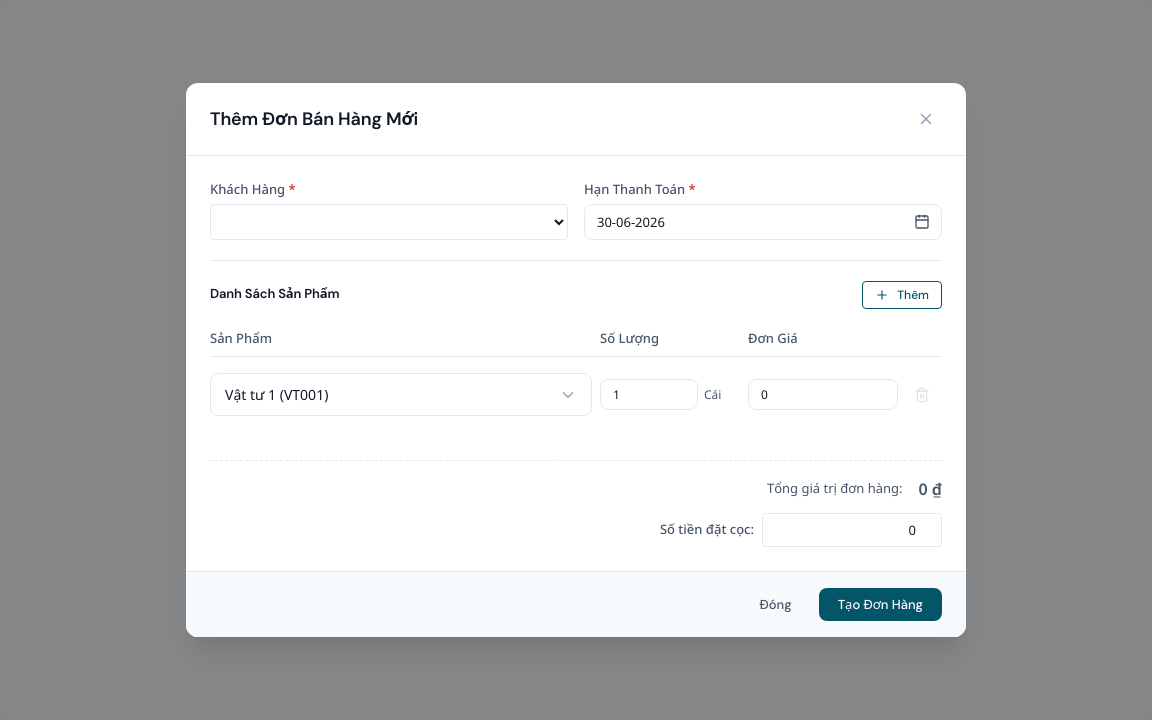
Scenario: SalesOrderFormModal › adds and removes item lines
The image size is (1152, 720).
Expected: the number of buttons named "Xóa sản phẩm" is 1, [906, 378, 938, 410]
Expected: the button named "Xóa sản phẩm" is disabled, [906, 378, 938, 410]
Add item
Step 1. Click the button "Thêm" → point(902, 294), box [862, 280, 942, 308]
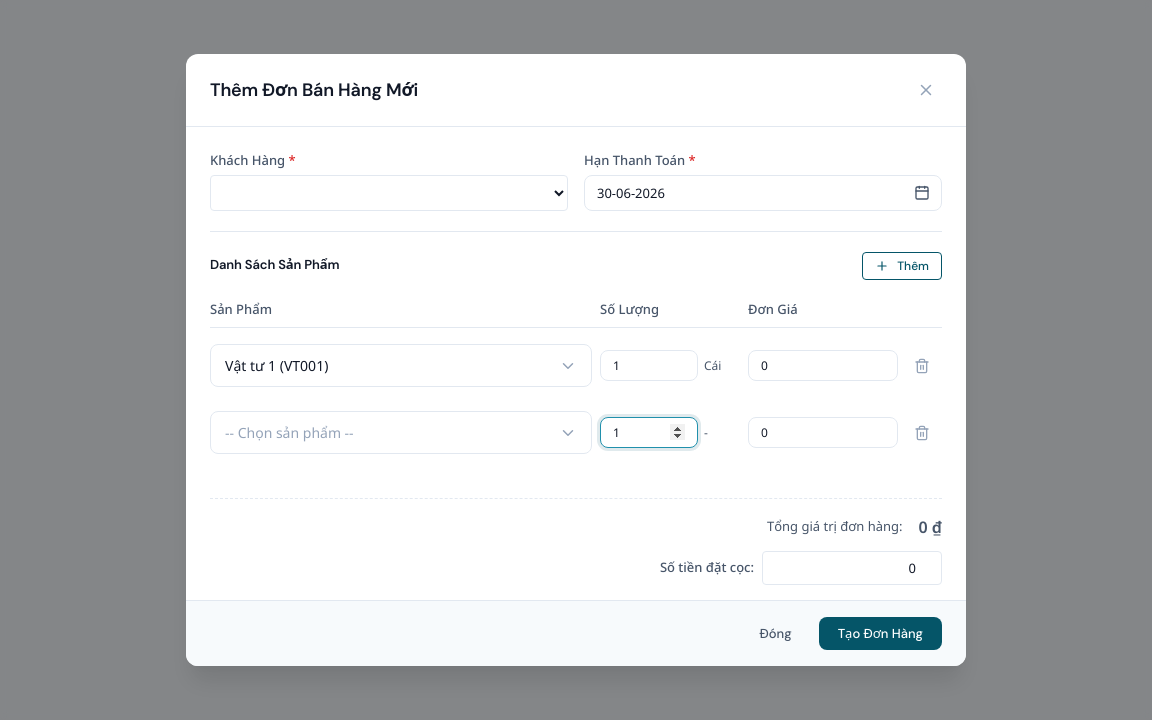
Expected: the number of buttons named "Xóa sản phẩm" is 2
Expected: the button named "Xóa sản phẩm" in the row of "Cái" is enabled, [906, 350, 938, 382]
Remove item
Step 2. Click the button named "Xóa sản phẩm" in the row of "-- Chọn sản phẩm --" → point(922, 432), box [906, 416, 938, 448]
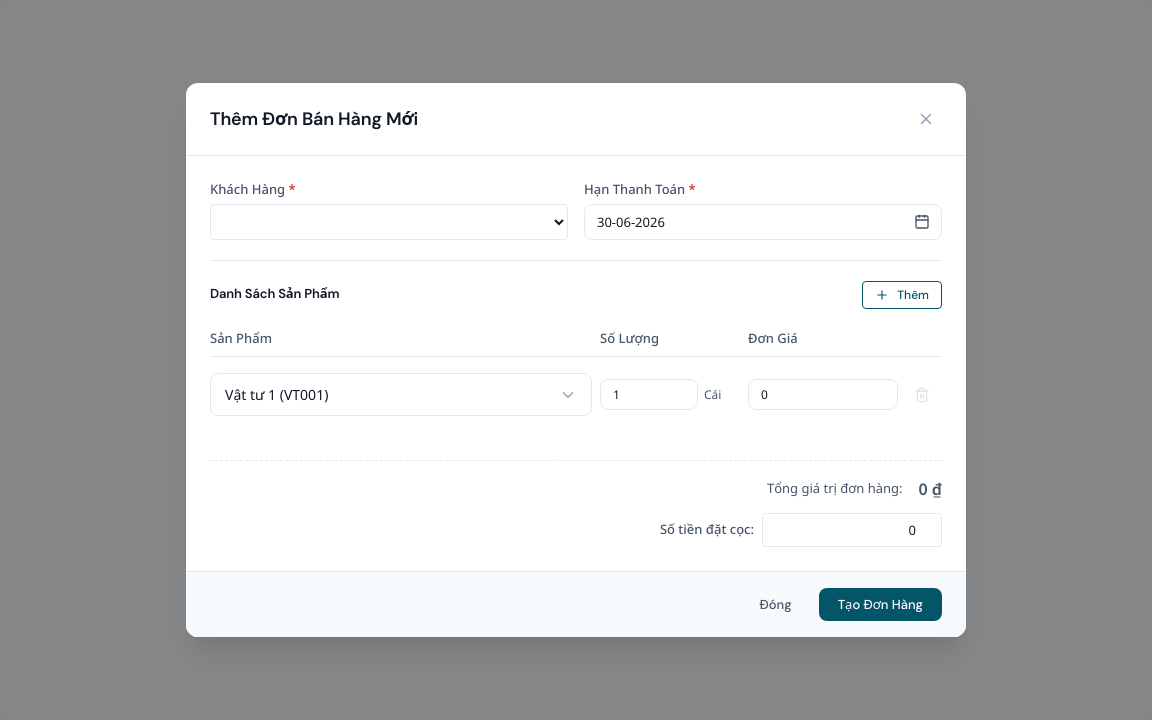
Expected: the number of buttons named "Xóa sản phẩm" is 1, [906, 378, 938, 410]
